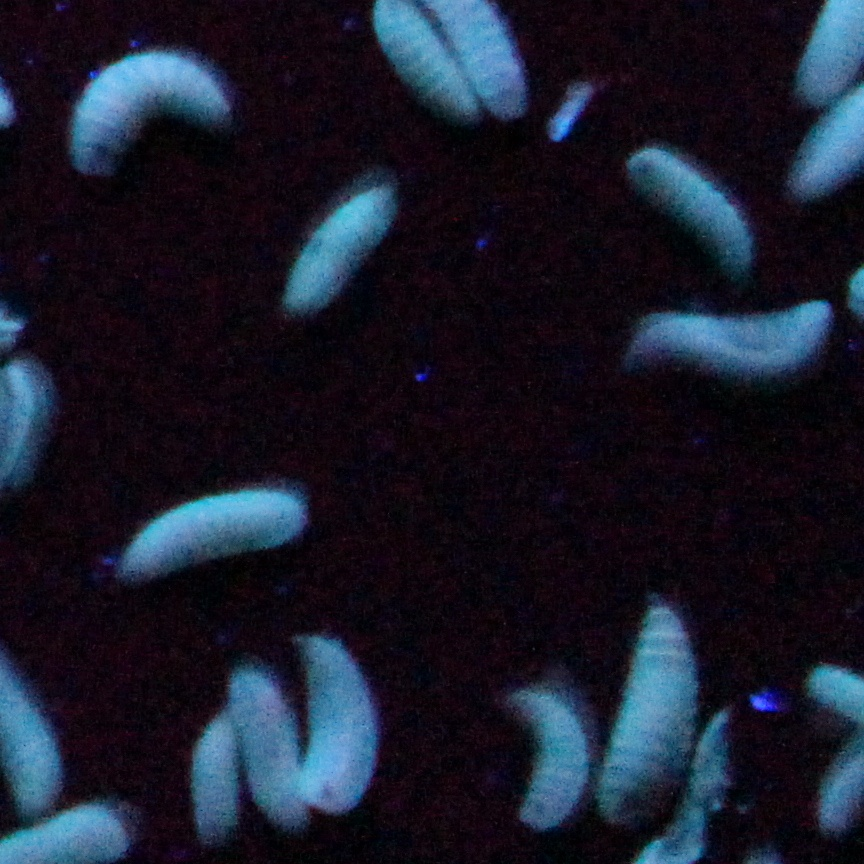larve: (605, 606, 694, 811), (124, 489, 304, 581), (83, 58, 220, 176), (284, 180, 394, 312), (637, 148, 748, 272), (376, 0, 468, 135), (298, 635, 367, 815), (637, 308, 828, 371), (511, 687, 588, 834), (228, 672, 294, 814), (186, 720, 242, 845)
